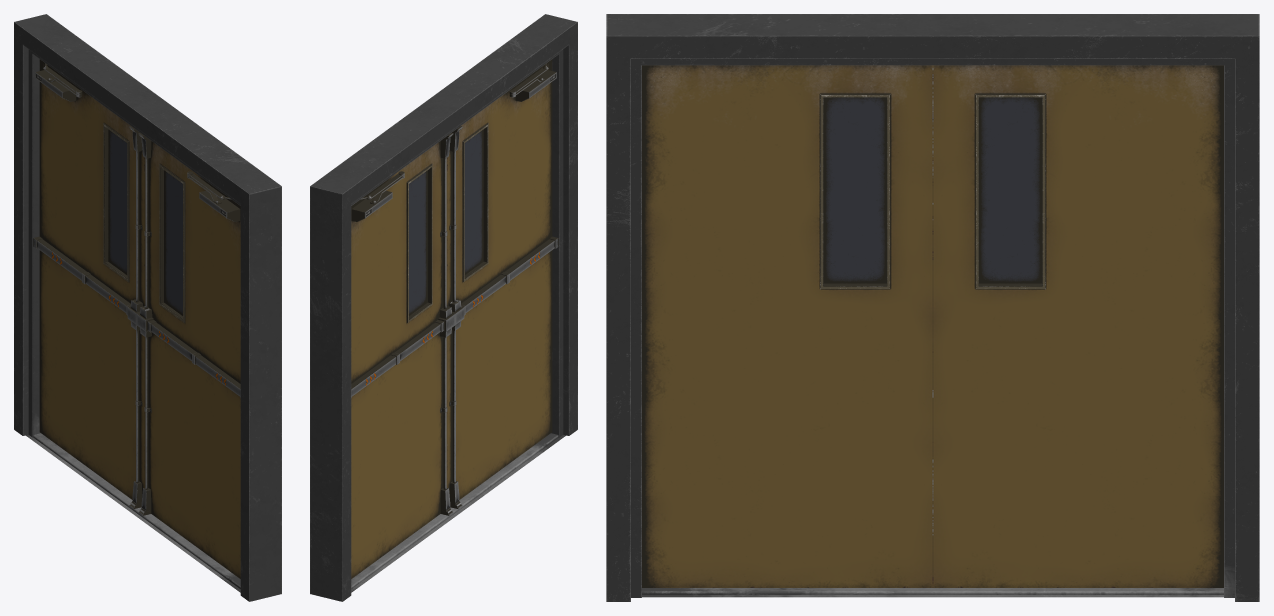
The model's file is double_door.glb.
3 renders of one model, left to right at view 1: azimuth 30°, elevation 25°; view 2: azimuth 150°, elevation 25°; view 3: azimuth 270°, elevation 25°, orthographic. The views are drawn at different scales.
Parts seen in each view (by area): view 1: 01_01_0, 02_02_0; view 2: 01_01_0, 02_02_0; view 3: 01_01_0, 02_02_0.
Part boxes in pixels (x1,y1,x2,y2): 01_01_0: (33, 59, 240, 578); 02_02_0: (14, 14, 281, 601); 01_01_0: (351, 59, 558, 578); 02_02_0: (310, 14, 577, 601); 01_01_0: (642, 65, 1223, 587); 02_02_0: (606, 14, 1259, 601).
Bounding box in the file's own units: 24.74 × 289 × 303.
2 materials, 2 textured.
